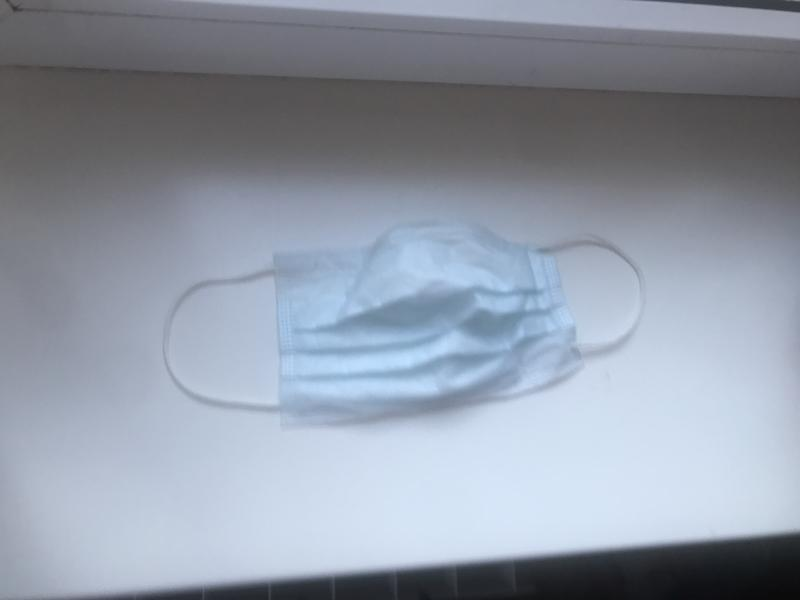medical_mask: (162, 225, 646, 422)
